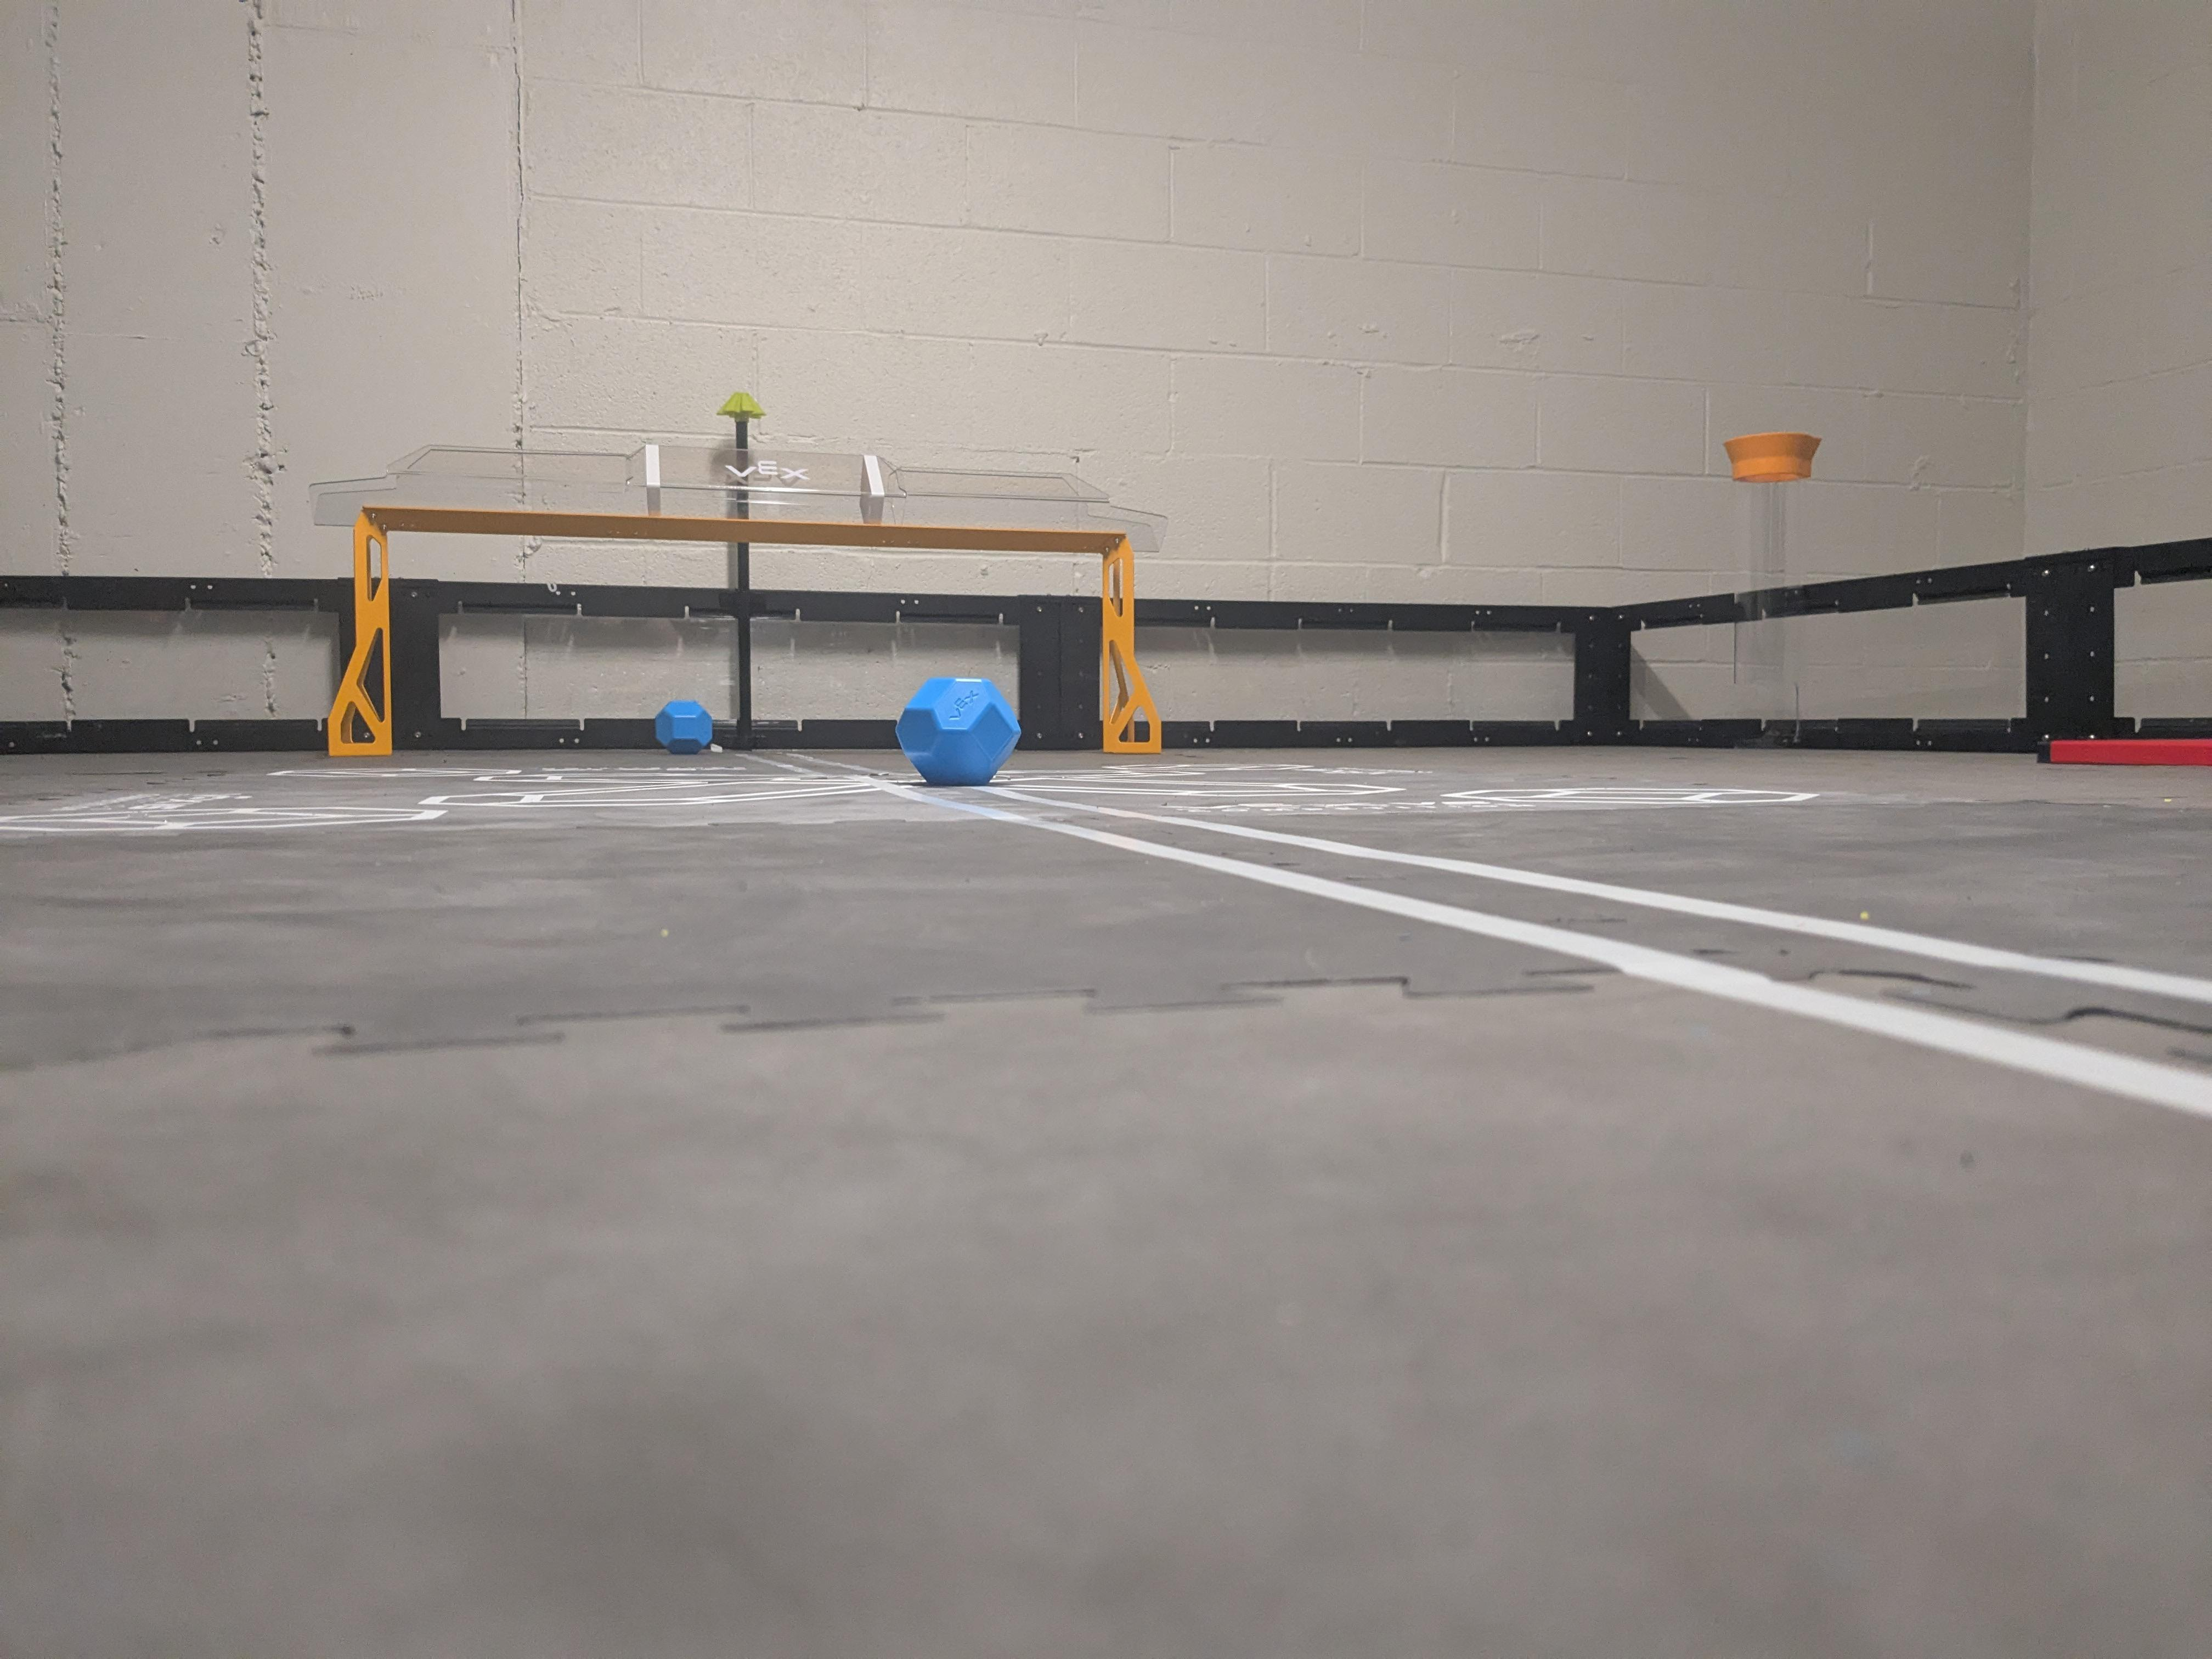Vex-Pieces-BLUE: (899, 676, 1019, 784), (653, 699, 712, 755)
